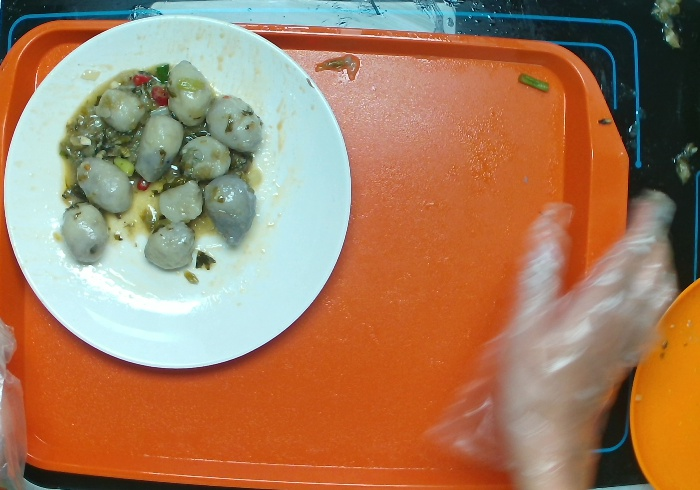HZYJPL-Bai_Se_Yuan_Pan: (1, 10, 358, 376)
